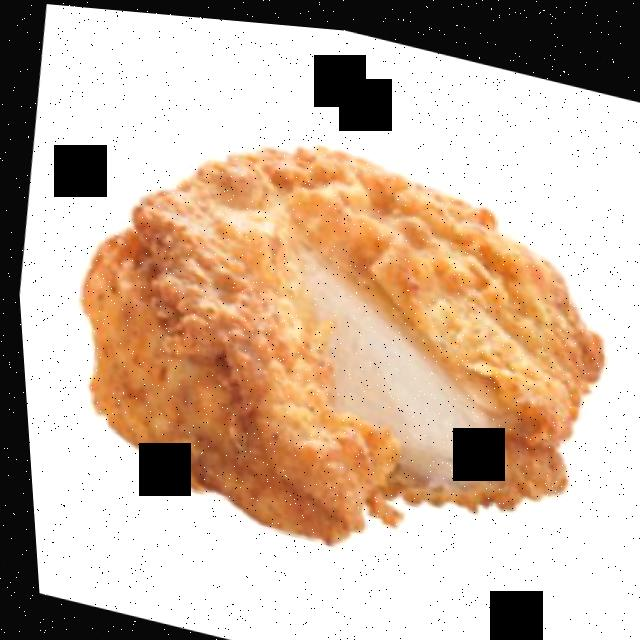Frango: (33, 82, 638, 601)
